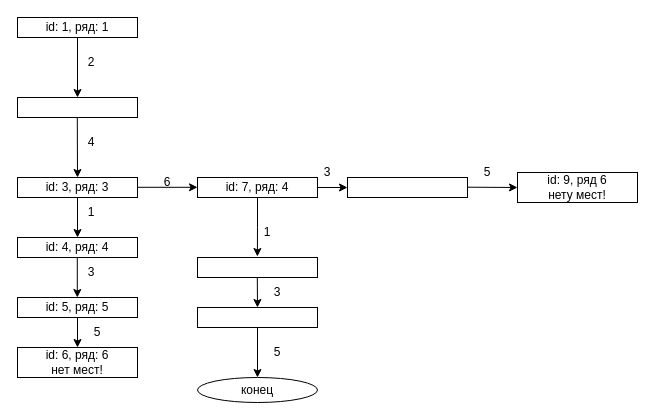
Some shapes in this 655 by 420 pixel diagram are drawn without their labels. Here are the shapes that lost their labels. From the top down, the centre of each, then its label:
At point (77, 107): "id: 2, ряд: 2".
At point (407, 187): "id: 8, ряд: 5".
At point (257, 267): "id: 10, ряд 5".
At point (257, 317): "id: 11, ряд 6".
